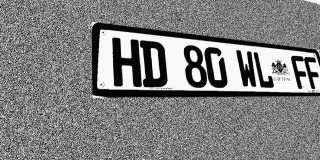0: (203, 46, 229, 88)
8: (182, 44, 208, 88)
D: (140, 40, 168, 87)
F: (290, 55, 311, 89), (303, 56, 320, 89)
H: (112, 37, 142, 87)
L: (252, 51, 275, 88)
W: (235, 50, 259, 88)
